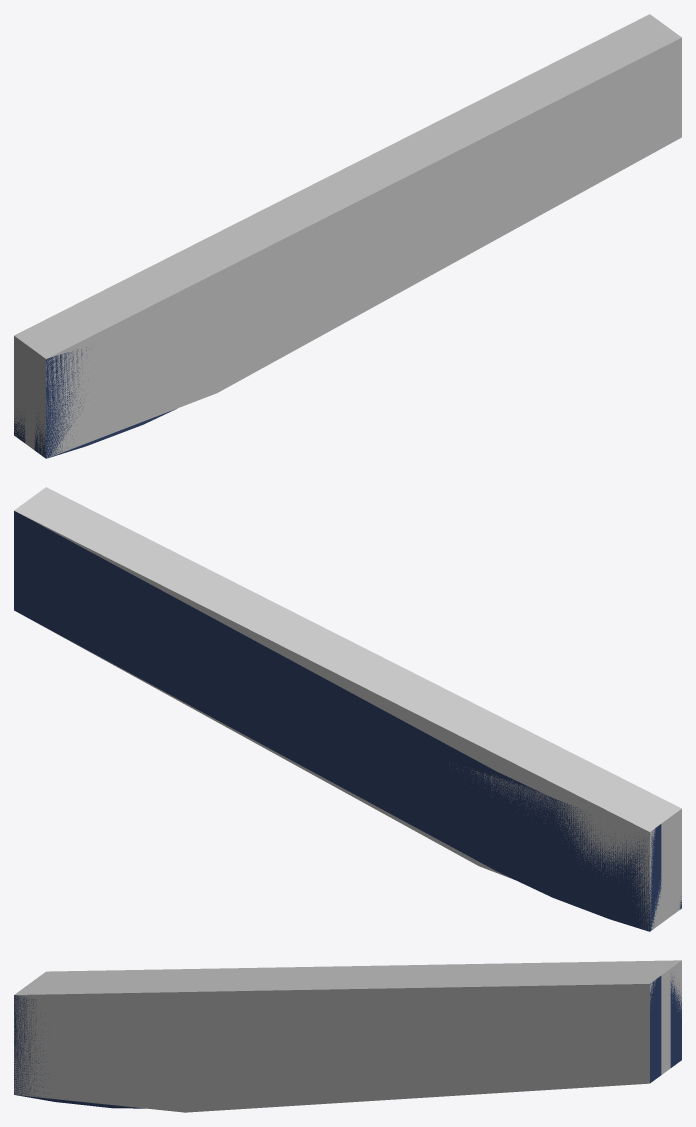
File: SM_Railroad_a.fbx
The picture shows the model from 3 angles, top to bottom: view 1: azimuth 30°, elevation 25°; view 2: azimuth 150°, elevation 25°; view 3: azimuth 330°, elevation 25°; orthographic projection.
Parts seen in each view (by area): view 1: SM_Railroad_a_ConvexHulls, SM_Railroad_a; view 2: SM_Railroad_a, SM_Railroad_a_ConvexHulls; view 3: SM_Railroad_a_ConvexHulls, SM_Railroad_a.
Part boxes in pixels (x1,y1,x2,y2): SM_Railroad_a_ConvexHulls: (14, 14, 681, 458); SM_Railroad_a: (14, 347, 176, 458); SM_Railroad_a: (14, 511, 681, 931); SM_Railroad_a_ConvexHulls: (14, 487, 681, 930); SM_Railroad_a_ConvexHulls: (14, 960, 681, 1112); SM_Railroad_a: (14, 974, 681, 1108).
Size of the model in its own units: 800 by 70 by 320.
2 materials, 1 textured.
